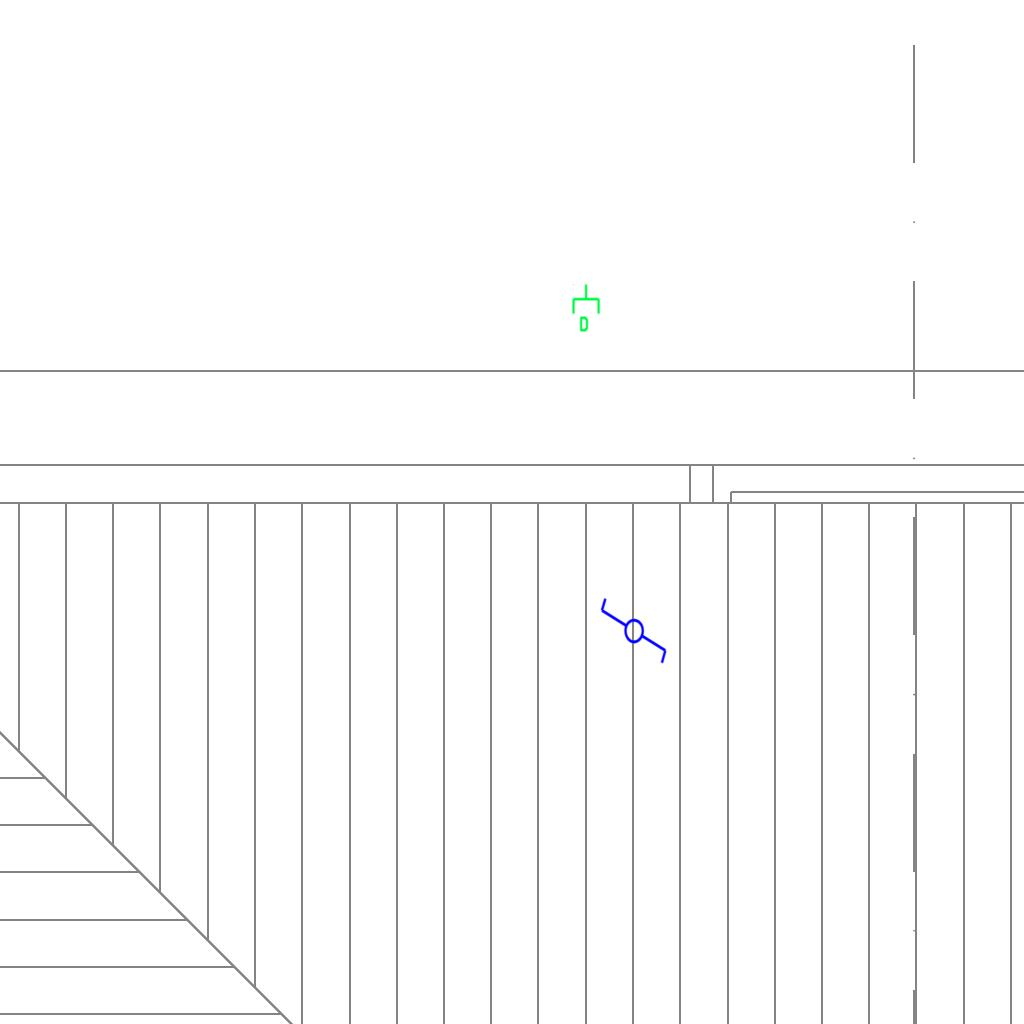Datenanschluss_einfach: (570, 283, 604, 333)
Wechselschalter: (597, 596, 669, 674)
